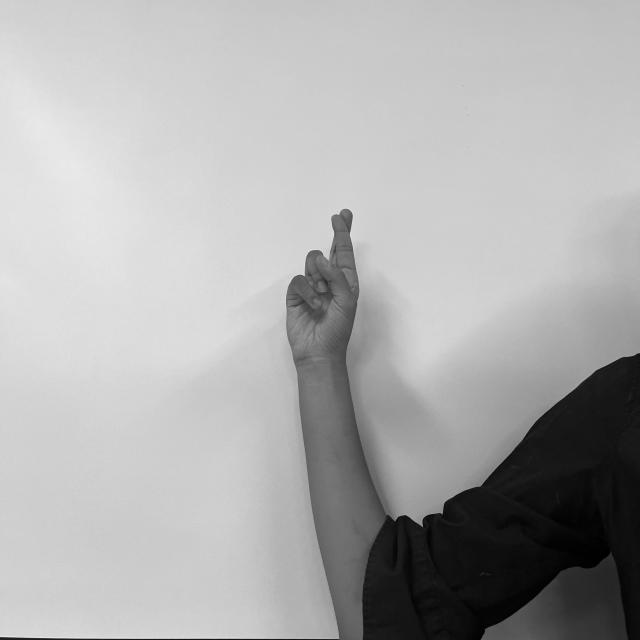Letra R: (283, 206, 363, 358)
